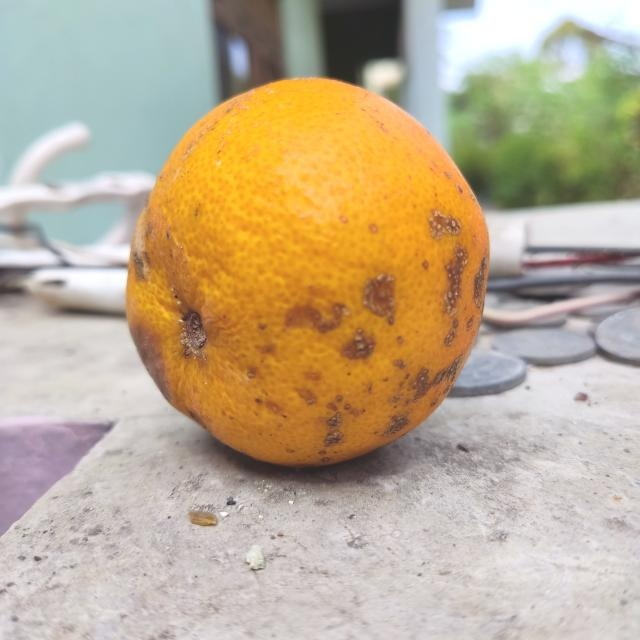agrume: (123, 77, 489, 473)
